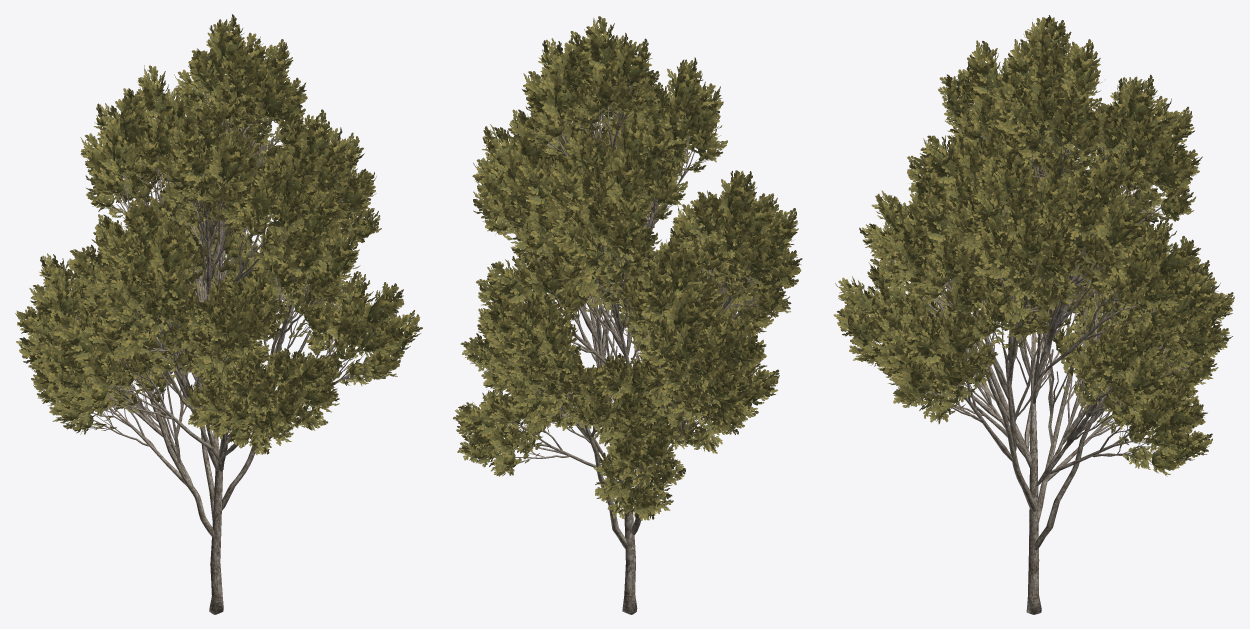
The model's file is urban_tree.glb.
The picture shows the model from 3 angles, left to right: view 1: azimuth 30°, elevation 25°; view 2: azimuth 150°, elevation 25°; view 3: azimuth 270°, elevation 25°; orthographic projection. The views are drawn at different scales.
Visible parts, largest first — view 1: Mesh_Folhagem_0, Mesh_galho fino_0; view 2: Mesh_Folhagem_0, Mesh_galho fino_0; view 3: Mesh_Folhagem_0, Mesh_galho fino_0.
Boxes of the visible parts, x1=… form: Mesh_Folhagem_0: x1=15, y1=14, x2=422, y2=454; Mesh_galho fino_0: x1=72, y1=83, x2=376, y2=614; Mesh_Folhagem_0: x1=453, y1=16, x2=802, y2=520; Mesh_galho fino_0: x1=493, y1=77, x2=771, y2=614; Mesh_Folhagem_0: x1=833, y1=15, x2=1234, y2=476; Mesh_galho fino_0: x1=871, y1=100, x2=1199, y2=614.
Bounding box in the file's own units: 3.19 × 5.77 × 3.45.
2 materials, 2 textured.
